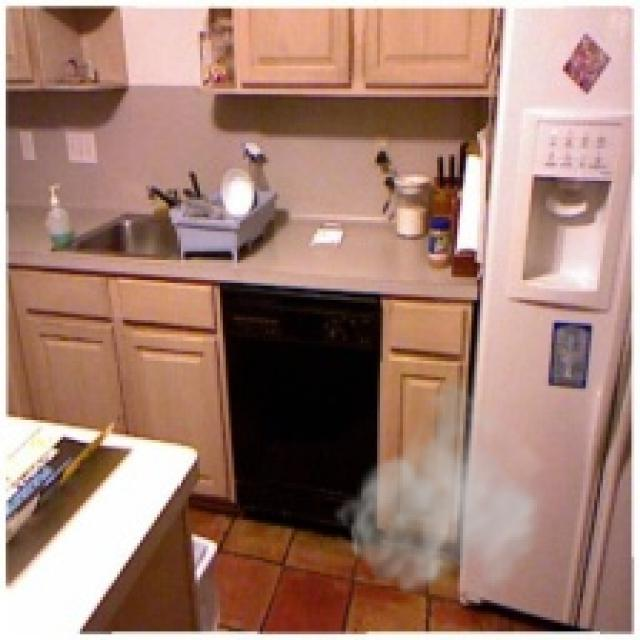smoke: (332, 366, 552, 617)
